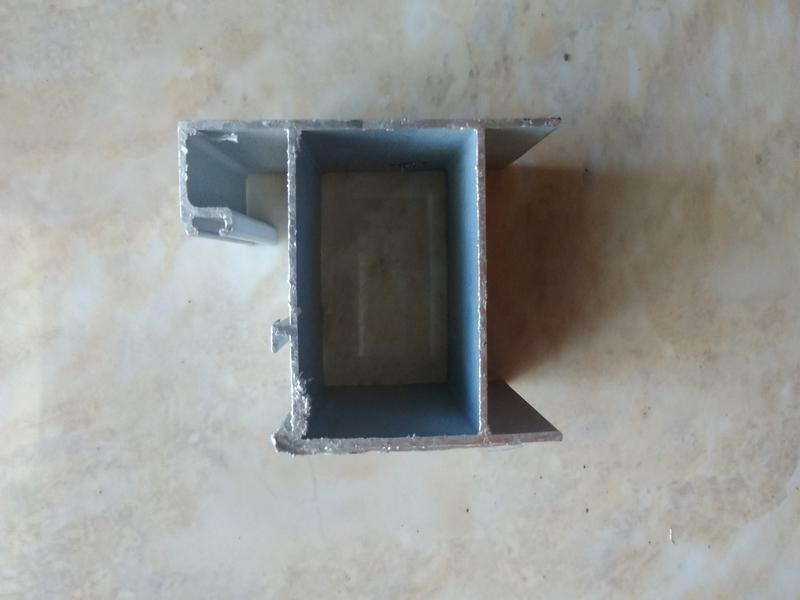Aluminium_2: (149, 87, 637, 465)
